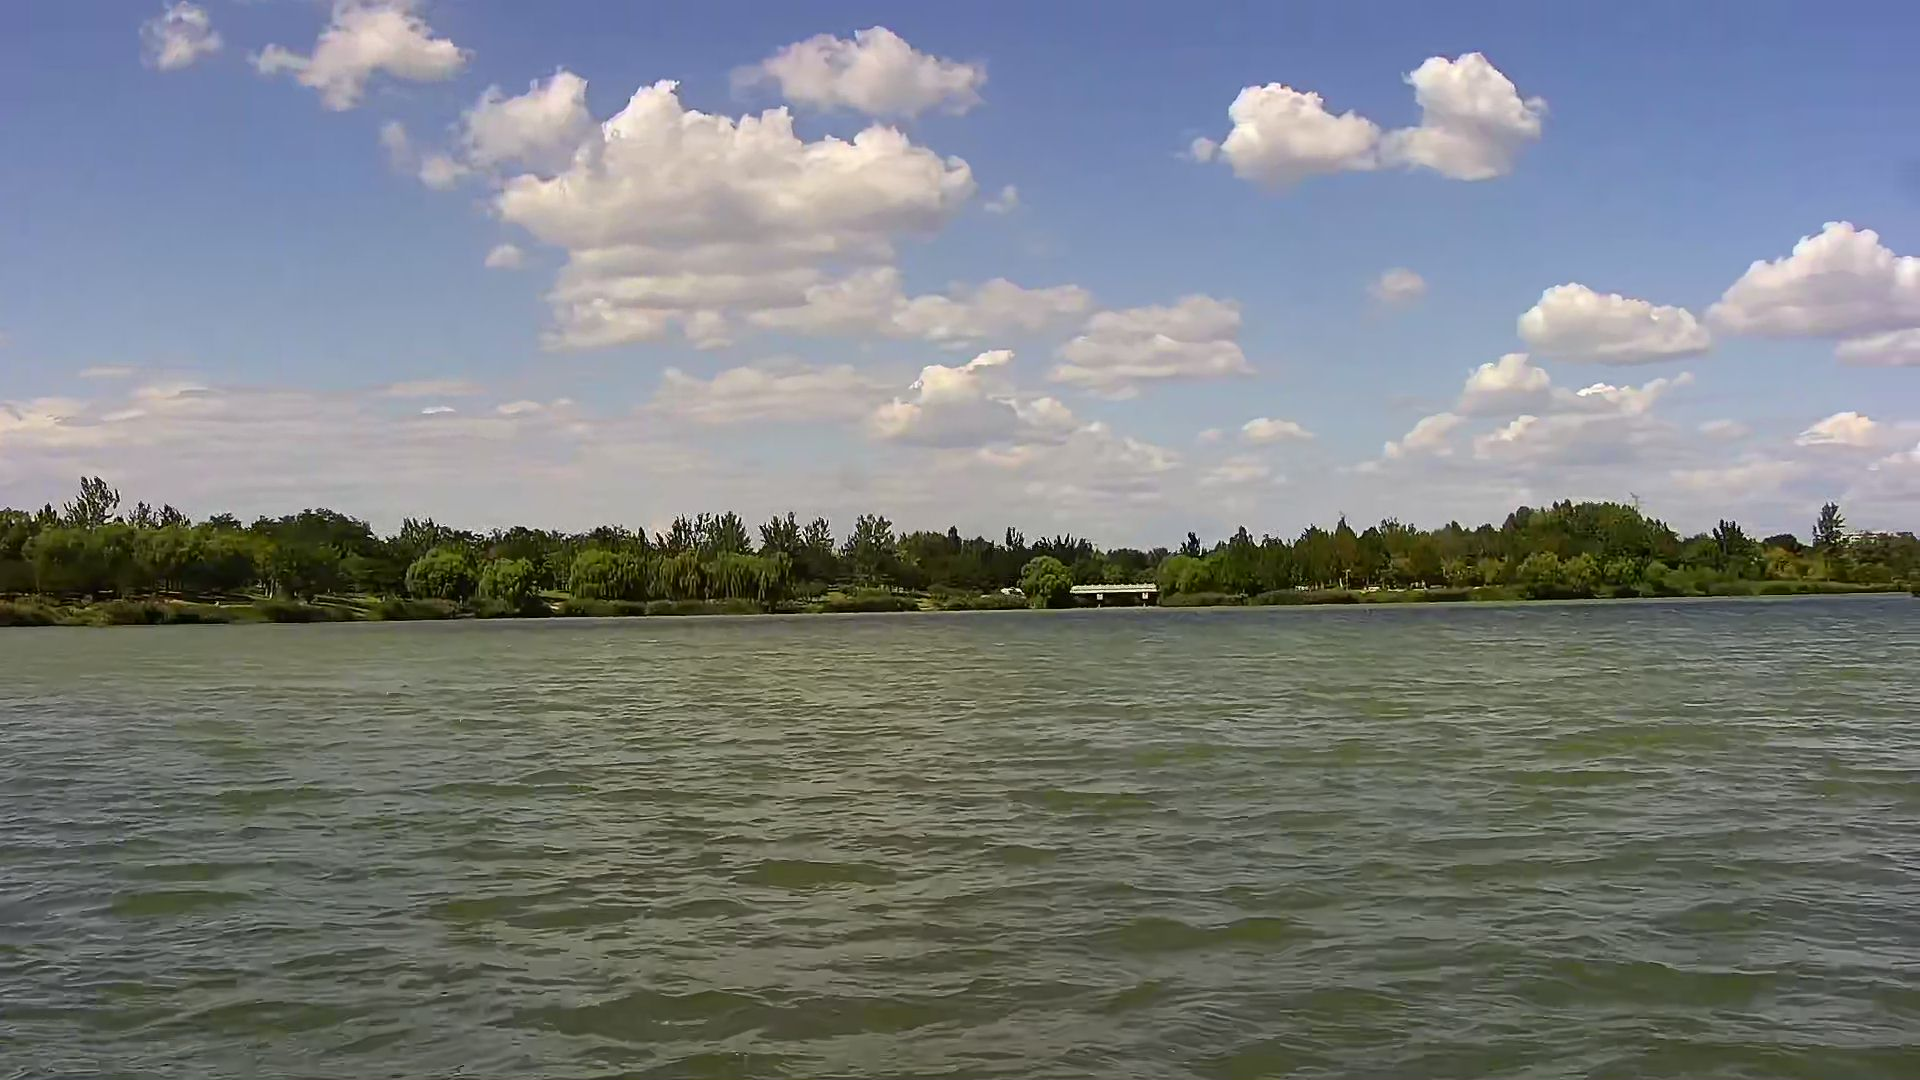bridge: (1069, 578, 1162, 612)
